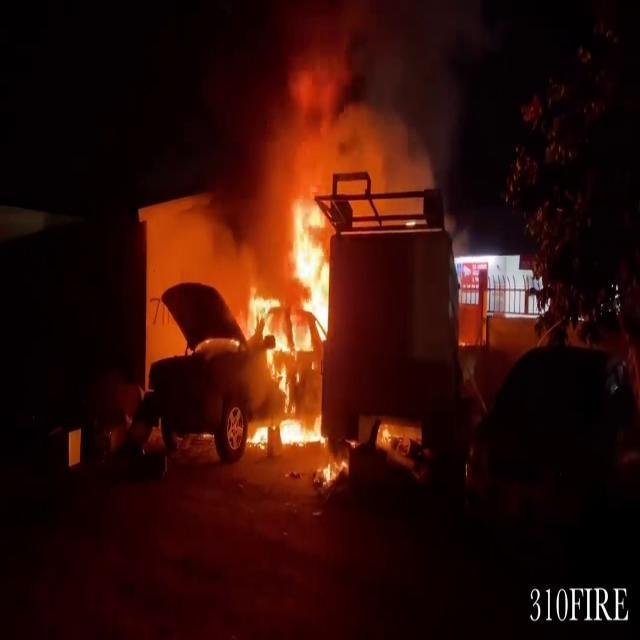Fire: (242, 188, 342, 450), (320, 444, 352, 489)
Smoke: (224, 0, 463, 216)
